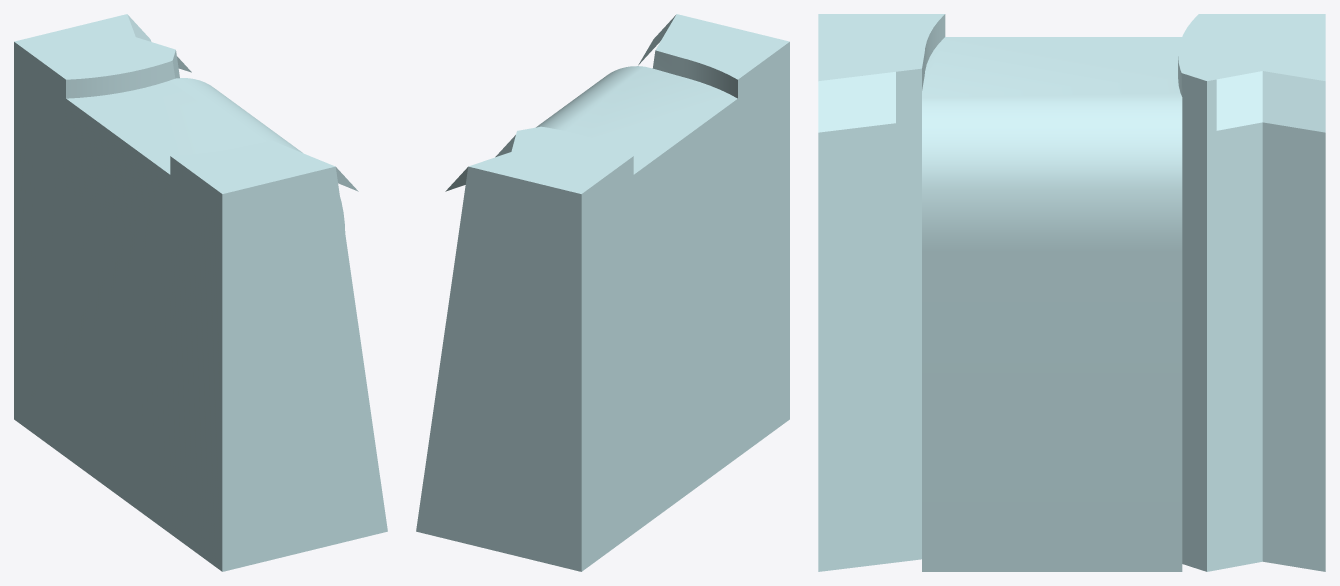
Rendered from cliffBrown_waterfallTop.fbx.
The picture shows the model from 3 angles, left to right: view 1: azimuth 30°, elevation 25°; view 2: azimuth 150°, elevation 25°; view 3: azimuth 270°, elevation 25°; orthographic projection. The views are drawn at different scales.
Visible parts, largest first — view 1: cliffBrown_waterfallTop; view 2: cliffBrown_waterfallTop; view 3: cliffBrown_waterfallTop.
Part boxes in pixels (<box>): cliffBrown_waterfallTop: <box>14,14,387,571</box>; cliffBrown_waterfallTop: <box>416,14,789,571</box>; cliffBrown_waterfallTop: <box>818,14,1325,571</box>.
Size of the model in its own units: 138 by 300 by 300.
